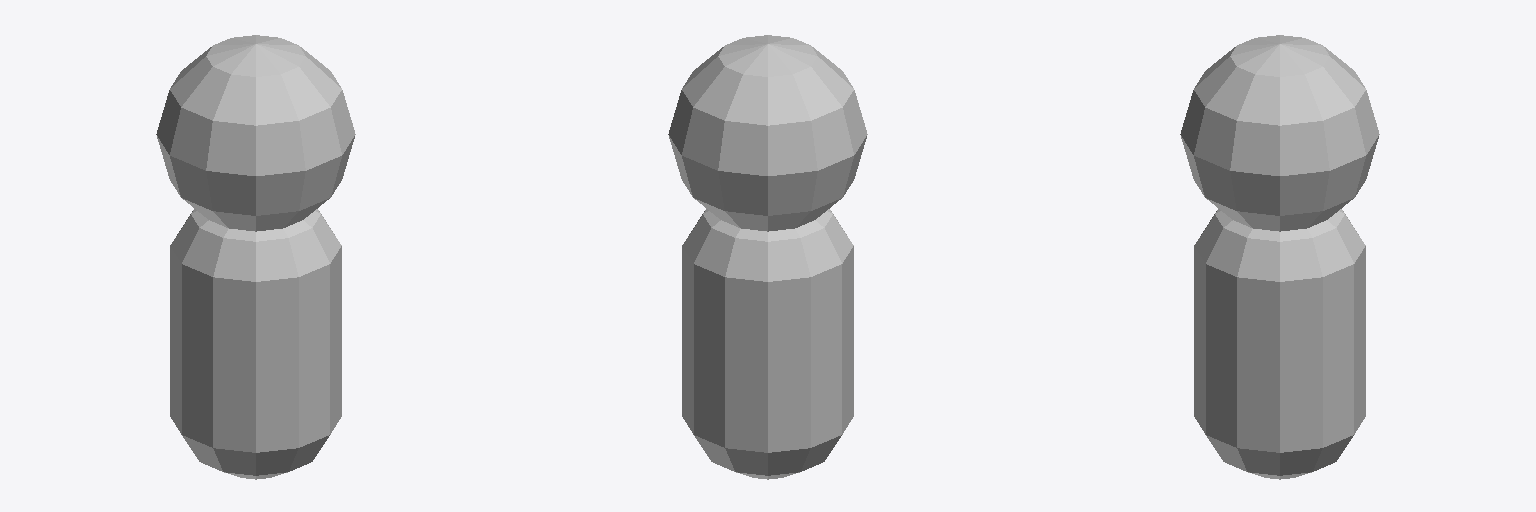
The model's file is Player.obj.
The picture shows the model from 3 angles: view 1: azimuth 30°, elevation 25°; view 2: azimuth 150°, elevation 25°; view 3: azimuth 270°, elevation 25°; orthographic projection.
Visible parts, largest first — view 1: Player; view 2: Player; view 3: Player.
Boxes of the visible parts, box(x1,y1,x2,y2) form: Player: box(156, 35, 355, 479); Player: box(668, 35, 867, 479); Player: box(1180, 35, 1379, 479).
Bounding box in the file's own units: 52.9 × 124 × 52.9.